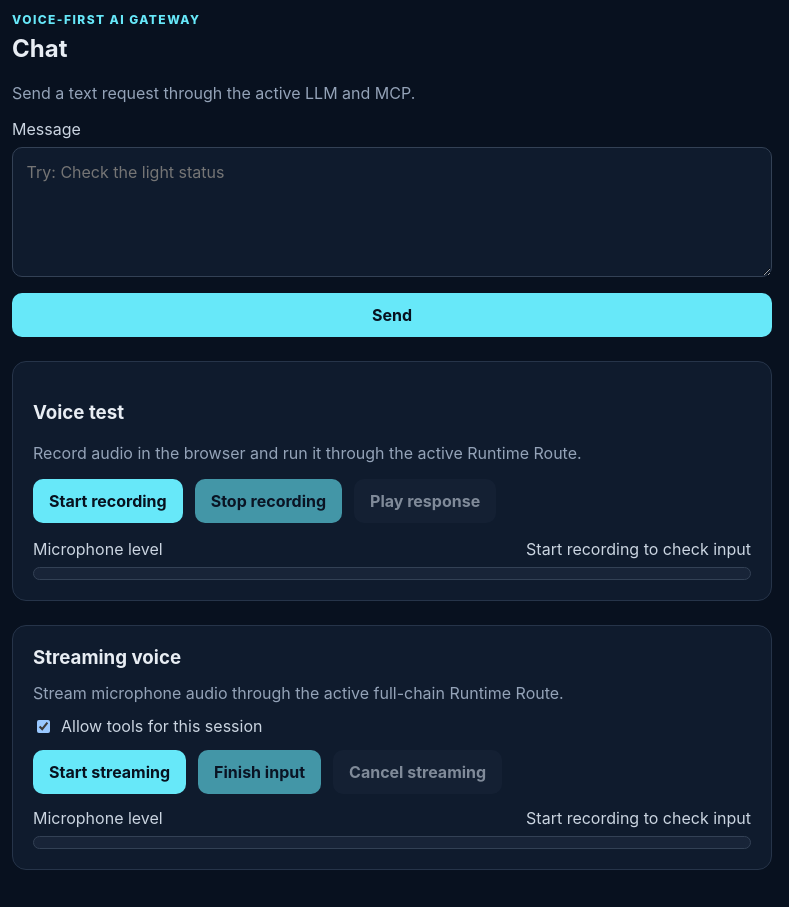
Scenario: ChatPage › recovers the durable conversation after an initial provider failure
Type "Check the light status" into the text box labelled "Message".
click(392, 212); type("Check the light status")  # box [12,147,772,277]
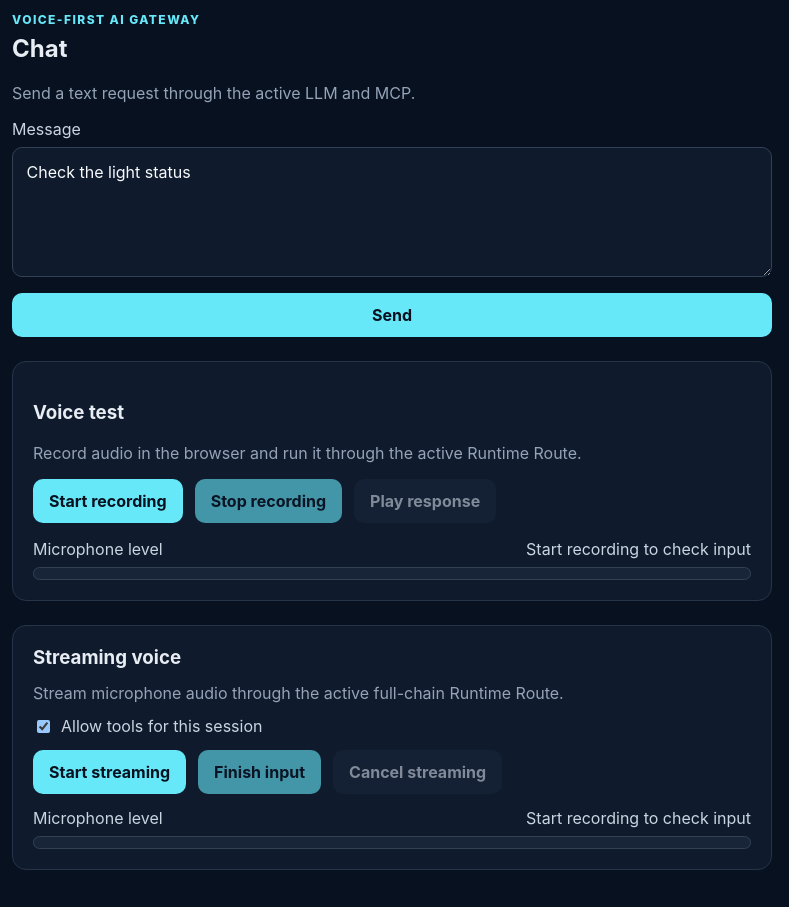
Click the button "Send".
click(392, 315)  # box [12,293,772,337]
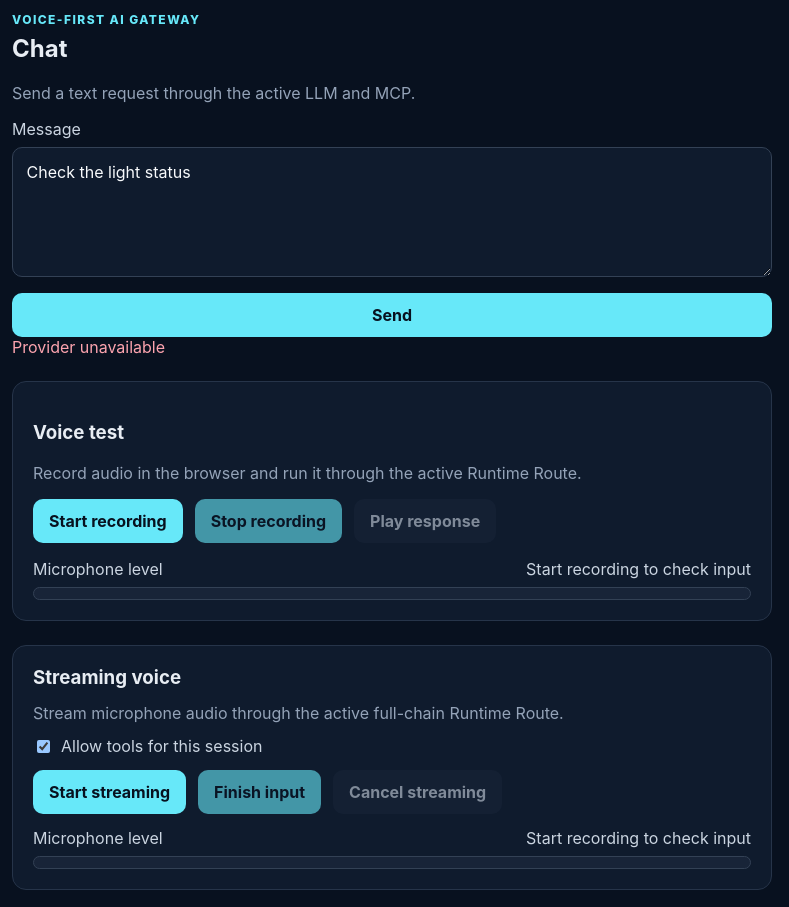
Result: the message reads "Provider unavailable" at [12,337,165,357]
